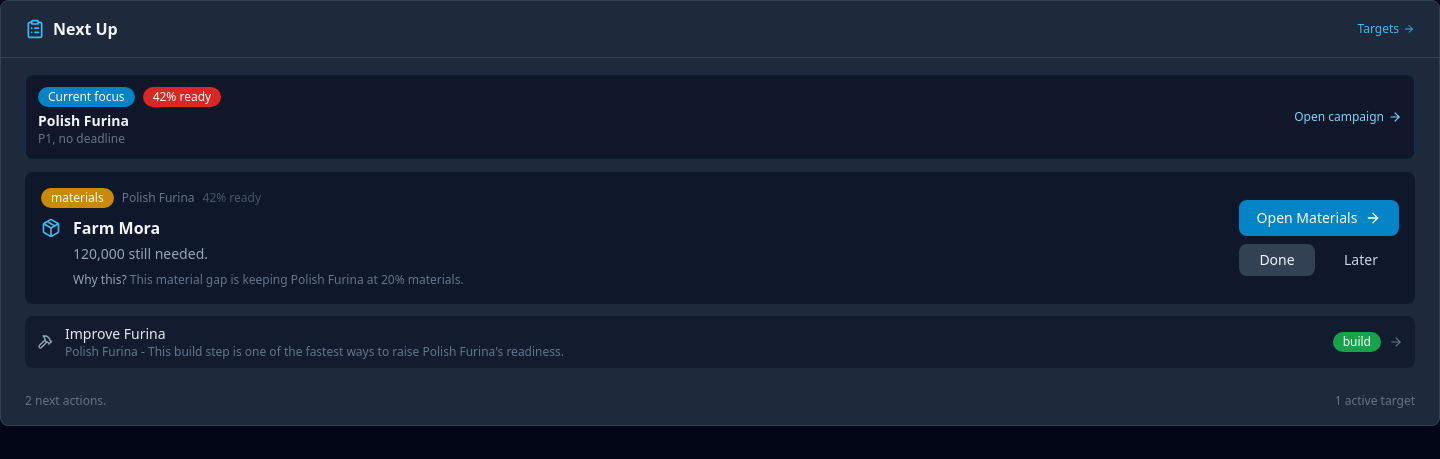
Scenario: CampaignNextActionsWidget › lets the top action disappear for today when it is marked done
This screenshot has width=1440, height=459.
Click the button "Done" at (1277, 260), box [1239,244,1315,276]
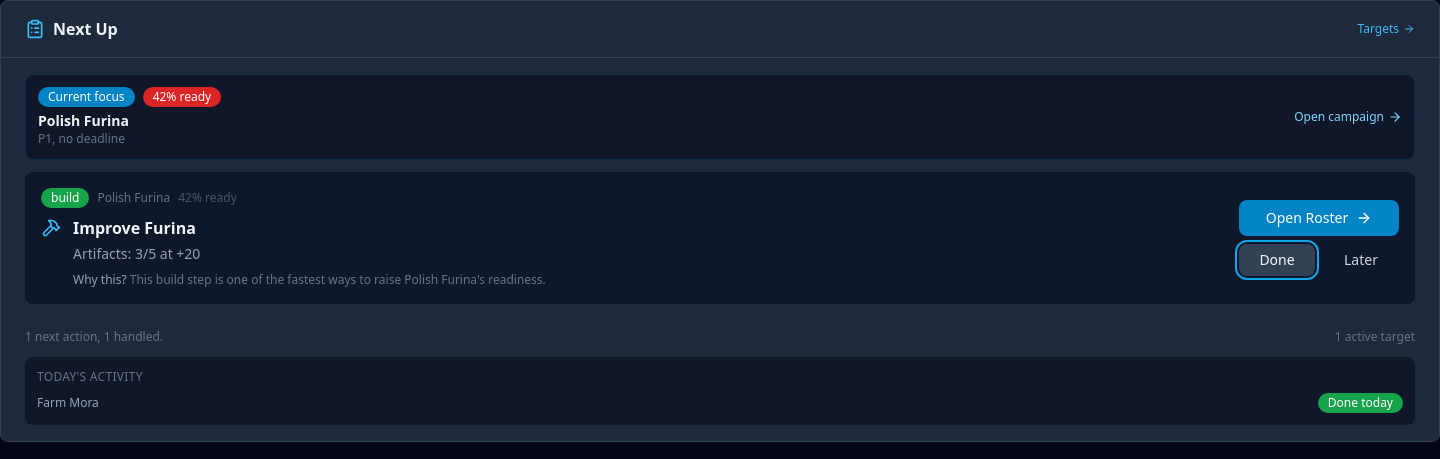
Now the heading "Improve Furina" is shown, box [73,217,196,239]
Now the text "Today's activity" is shown, box [37,368,143,385]
Now the text "Done today" is shown, box [1318,393,1403,413]
